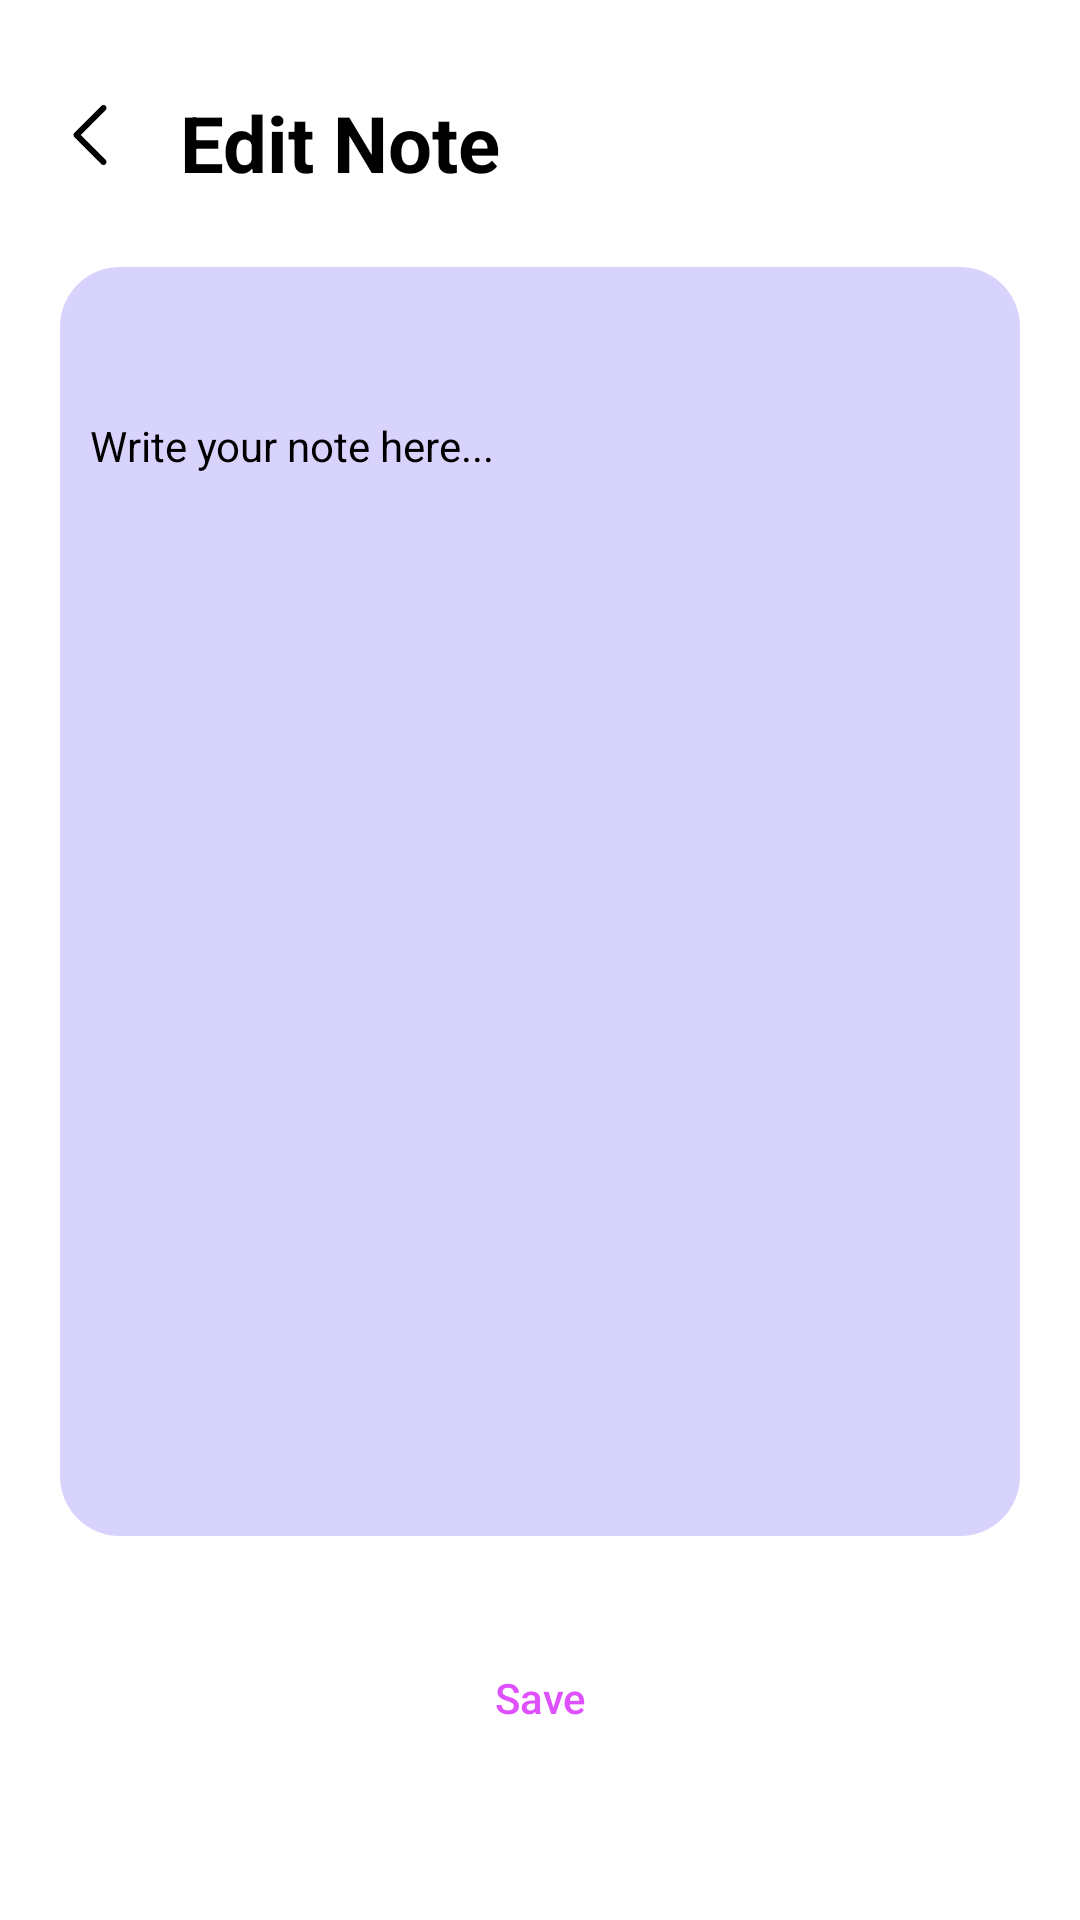

Icons on this 1080px×1920px Android screen, each with the point to tap as point (x, y):
back: point (90, 135)
